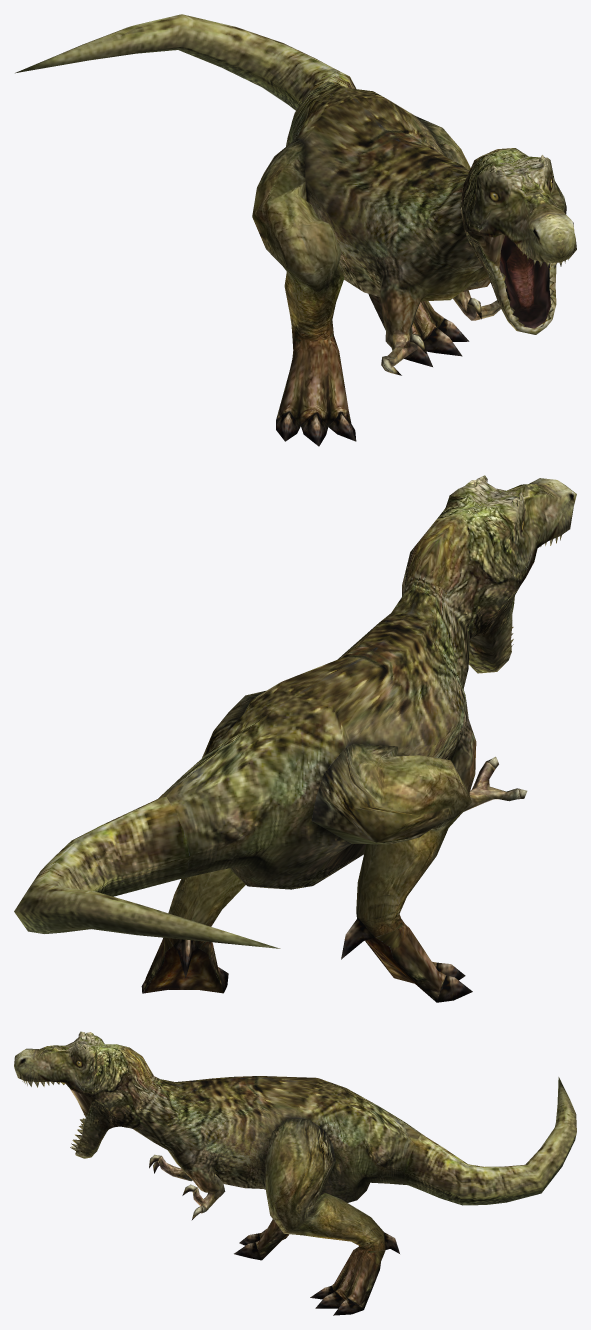
Rendered from Tyrannosaurus.fbx.
The picture shows the model from 3 angles, top to bottom: view 1: azimuth 30°, elevation 25°; view 2: azimuth 150°, elevation 25°; view 3: azimuth 270°, elevation 25°; orthographic projection. The views are drawn at different scales.
Visible parts, largest first — view 1: Body; view 2: Body; view 3: Body.
Boxes of the visible parts, x1,y1,x2,y2 form: Body: (15,14,576,446); Body: (14,475,576,1002); Body: (14,1031,576,1315).
Size of the model in its own units: 964 by 1127 by 2432.
1 material, 1 textured.
